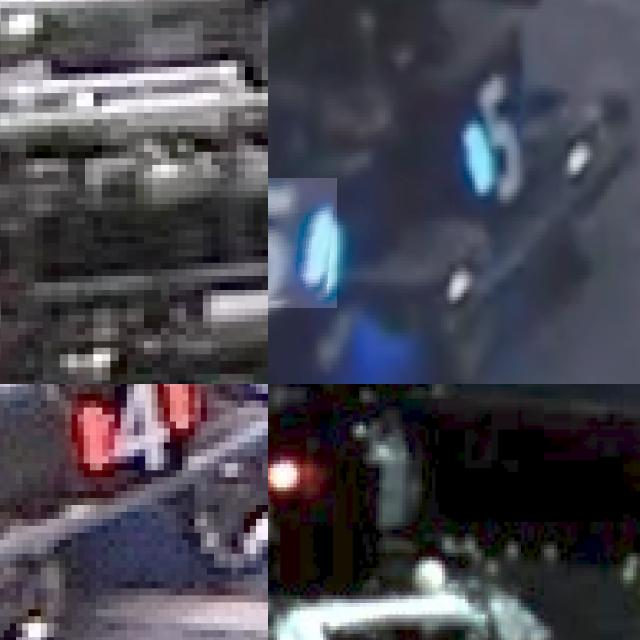B5: (458, 81, 537, 203), (268, 178, 337, 307)
R4: (71, 384, 188, 477)
